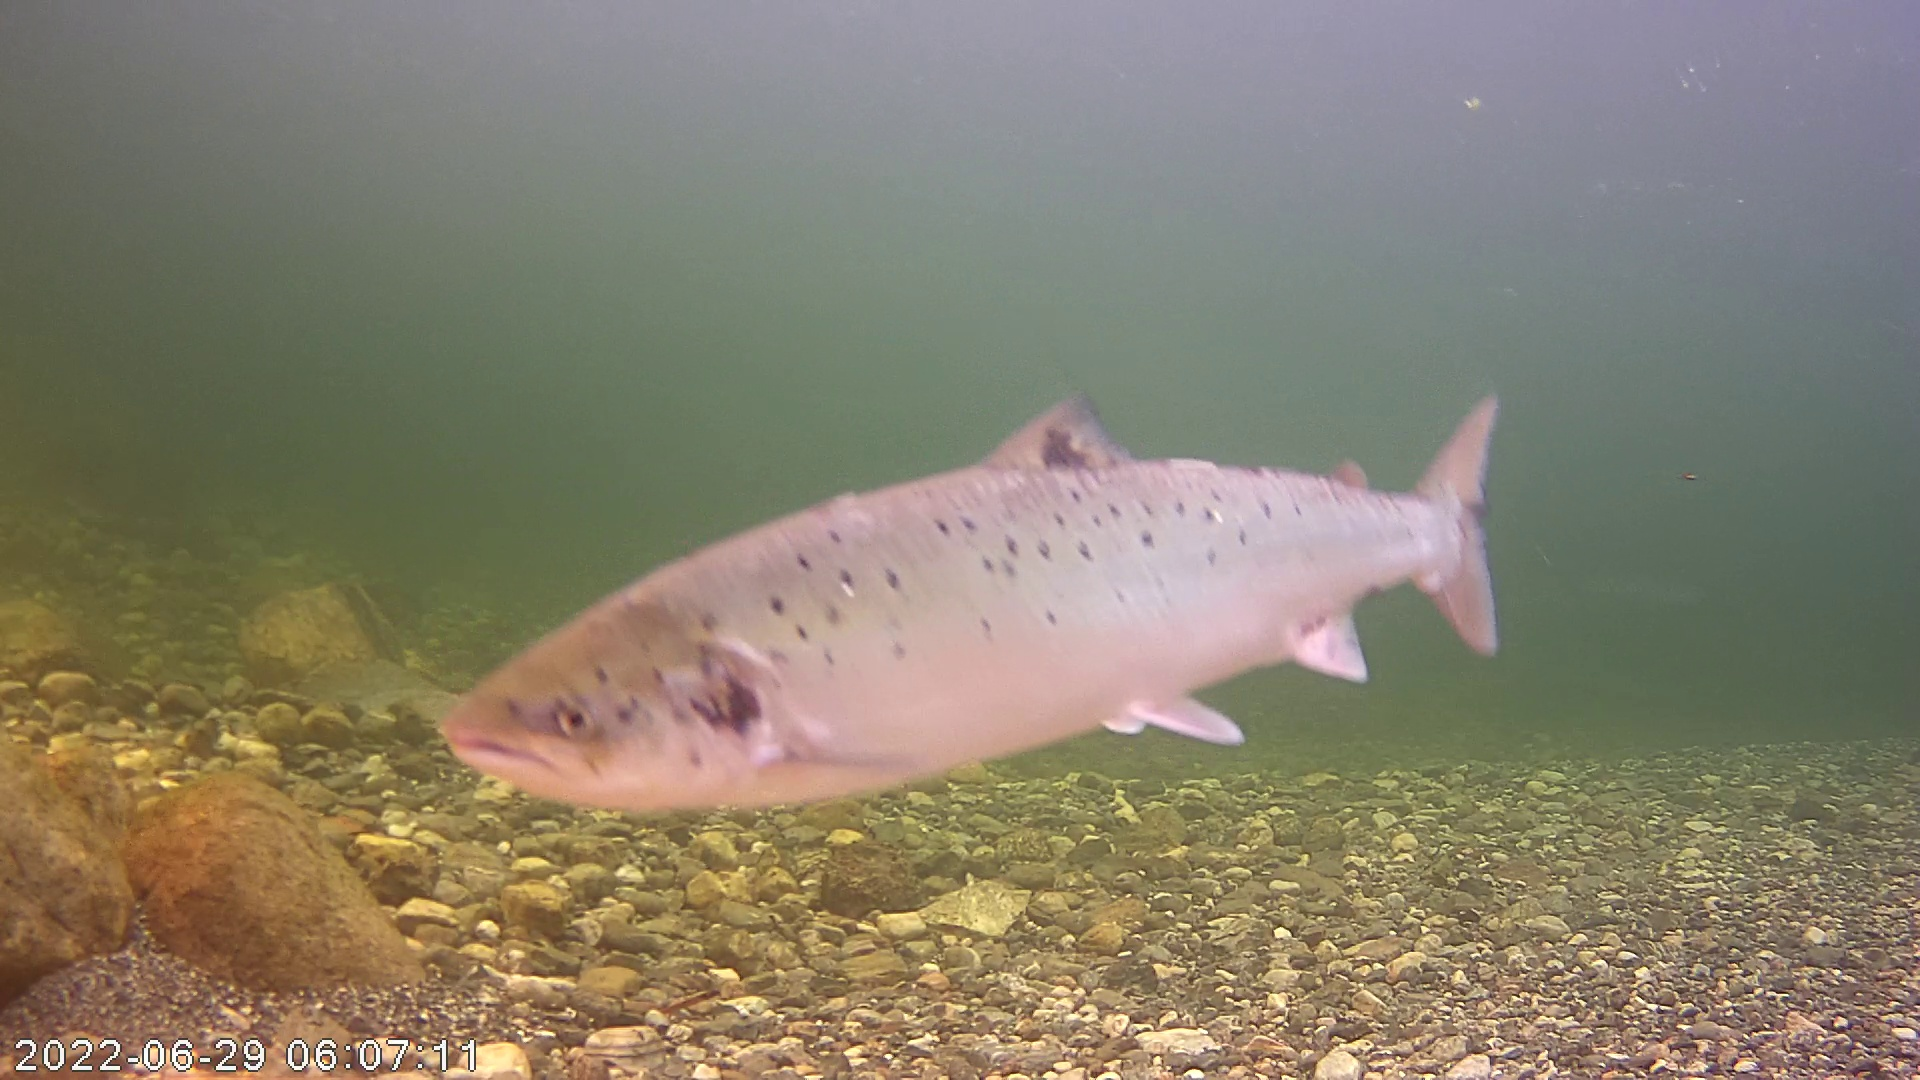salmon: (491, 309, 1520, 793)
